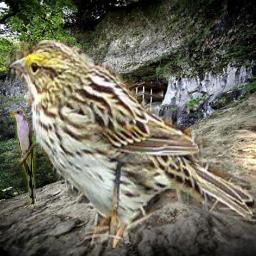Cuckoo: (10, 108, 36, 206)
Sparrow: (4, 40, 256, 248)
